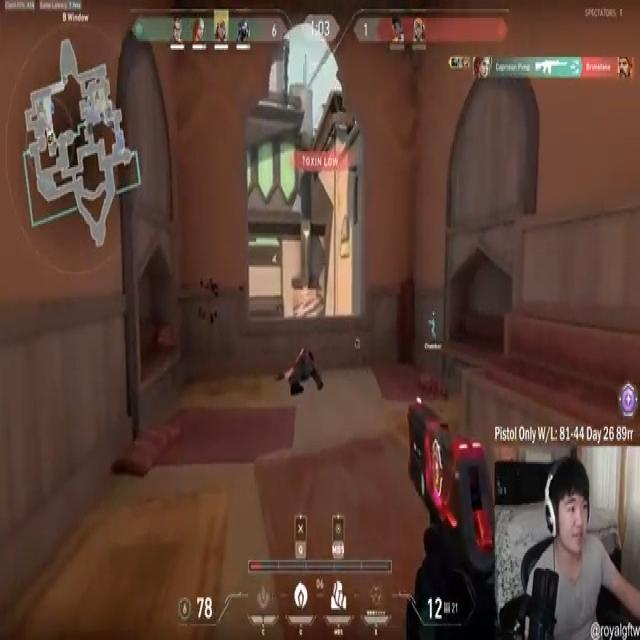ally behind wall: (428, 314, 437, 343)
